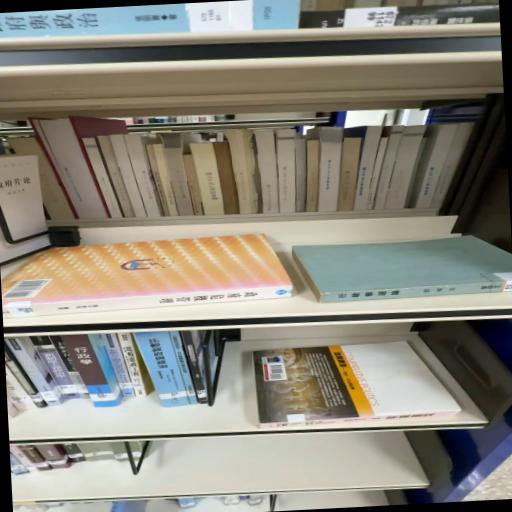flat: (2, 235, 294, 319), (254, 342, 461, 429), (293, 237, 512, 304)
